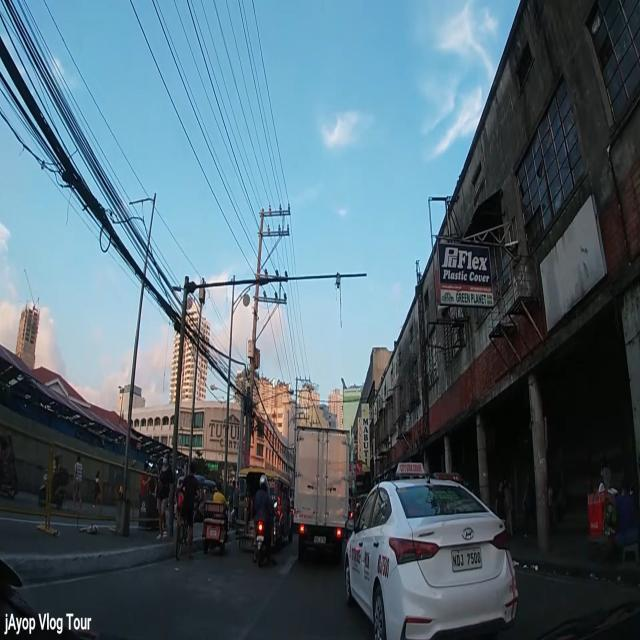bike: (175, 461, 199, 561)
car: (344, 462, 514, 638)
jeepney: (238, 468, 294, 551)
motorcycle: (36, 451, 70, 512), (253, 476, 275, 566)
tricycle: (204, 486, 229, 554)
truck: (290, 426, 347, 563)
